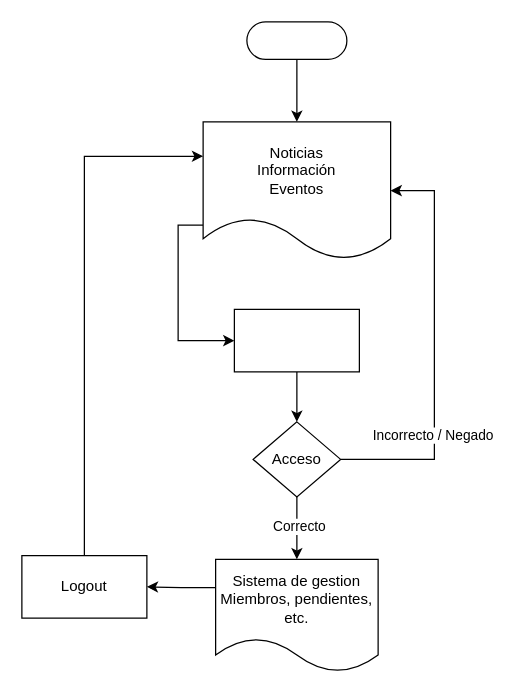
Some shapes in this 515 by 694 pixel diagram are drawn without their labels. Here are the shapes that lost their labels. From the top down, the centre of each, then its label:
At [296,40]: "Pagina de Inicio".
At [296,340]: "Login".
